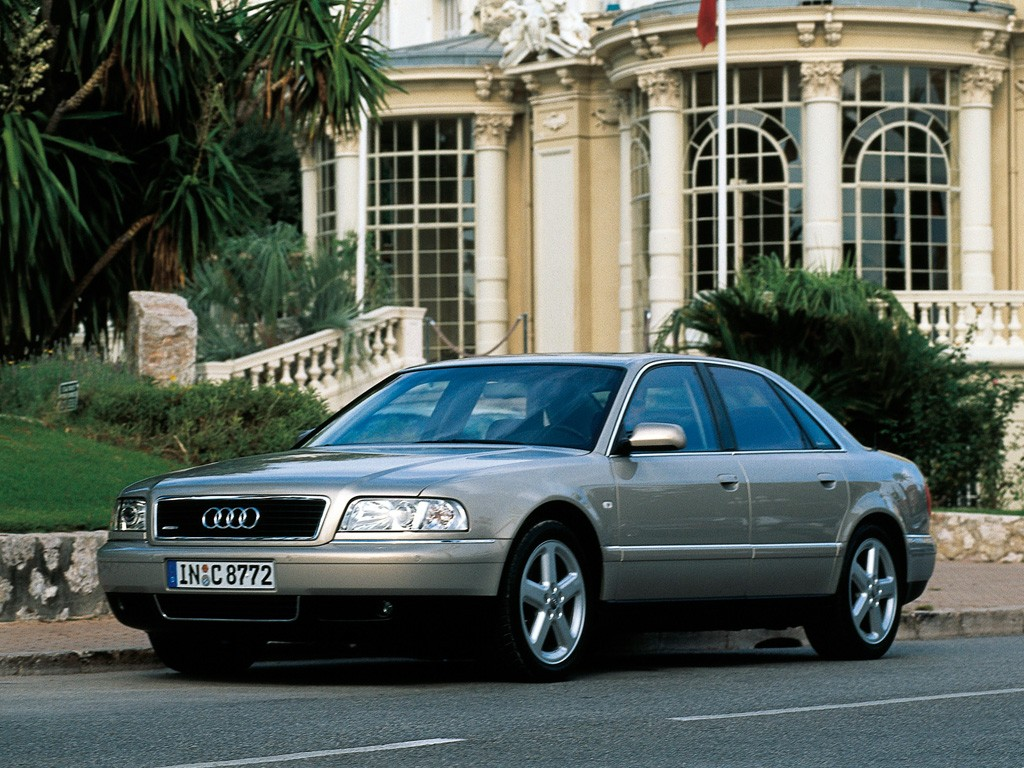plate: (165, 559, 278, 592)
